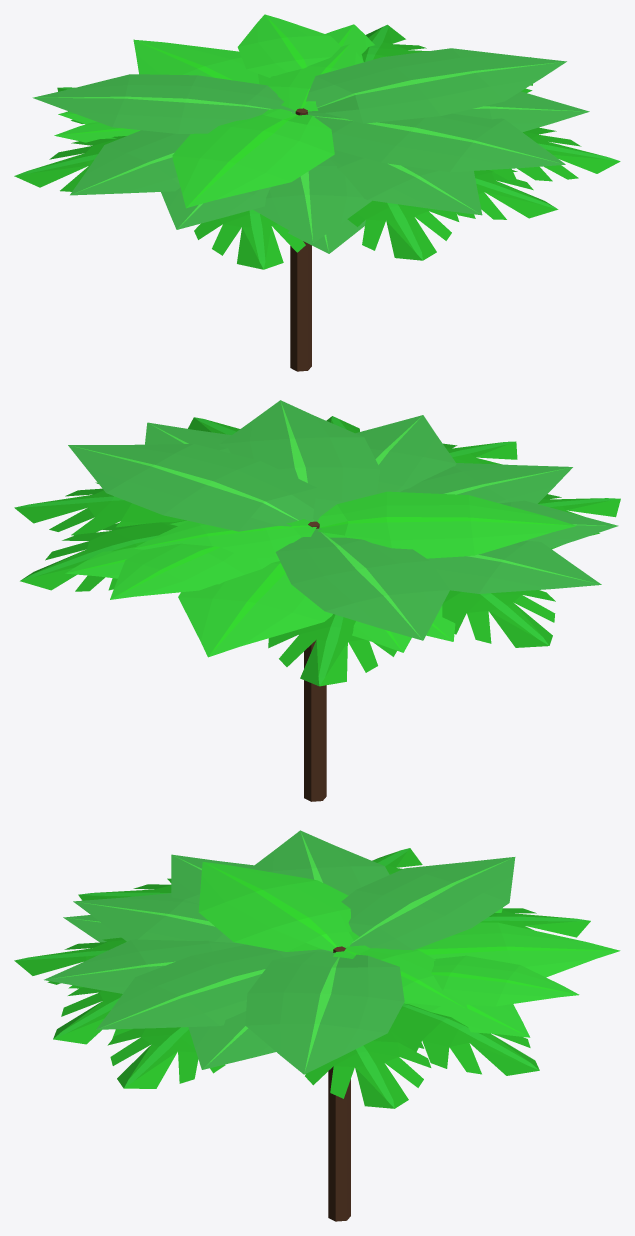
Rendered from Tree3_bw.fbx.
3 renders of one model, top to bottom at view 1: azimuth 30°, elevation 25°; view 2: azimuth 150°, elevation 25°; view 3: azimuth 270°, elevation 25°, orthographic. The views are drawn at different scales.
Visible parts, largest first — view 1: tree3; view 2: tree3; view 3: tree3.
Part boxes in pixels (x1,y1,x2,y2): tree3: [14, 14, 620, 371]; tree3: [14, 400, 620, 801]; tree3: [14, 830, 620, 1221].
Bounding box in the file's own units: 11026 × 5460 × 10841.
